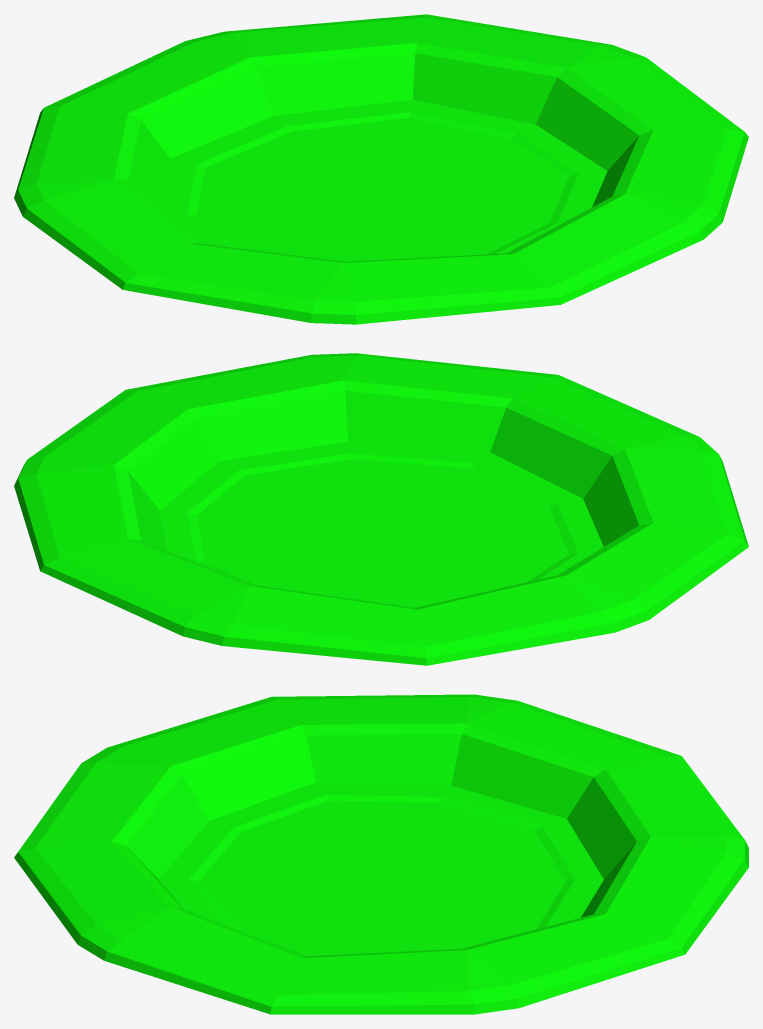
File: SM_Plate_Pewter_B.fbx
3 views of the same model, one above another, from view 1: azimuth 30°, elevation 25°; view 2: azimuth 150°, elevation 25°; view 3: azimuth 270°, elevation 25° (orthographic). The views are drawn at different scales.
Parts seen in each view (by area): view 1: plate-pewter-b; view 2: plate-pewter-b; view 3: plate-pewter-b.
Boxes of the visible parts, bbox=[...] form: plate-pewter-b: bbox=[14, 14, 748, 324]; plate-pewter-b: bbox=[14, 353, 748, 665]; plate-pewter-b: bbox=[14, 694, 748, 1014].
Size of the model in its own units: 0.3259 by 0.0272 by 0.3227.
